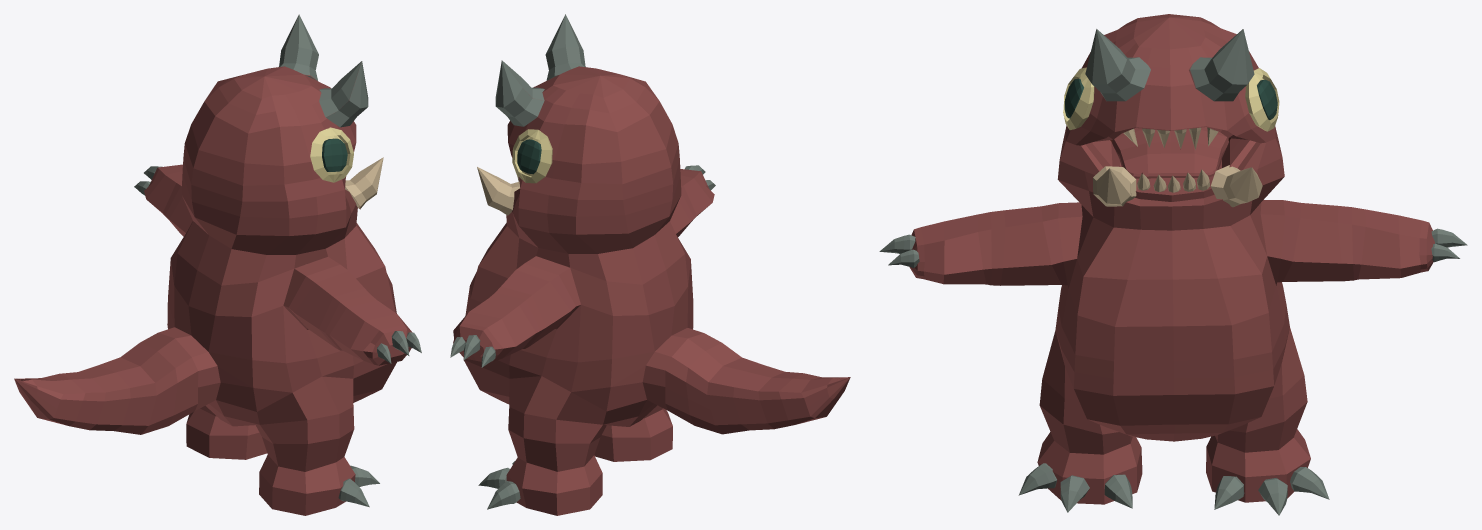
The model's file is 2nd Floor Monster 1.fbx.
3 views of the same model, side by side, from view 1: azimuth 30°, elevation 25°; view 2: azimuth 150°, elevation 25°; view 3: azimuth 270°, elevation 25° (orthographic). The views are drawn at different scales.
Parts seen in each view (by area): view 1: Cube, Cone.004, Icosphere.002, Cone, Cone.002, Cone.005, Cone.006; view 2: Cube, Cone, Icosphere, Cone.004, Cone.001, Cone.006, Cone.005; view 3: Cube, Cone.006, Cone, Cone.004, Cone.003, Cone.001, Icosphere, Cone.005, Cone.002, Icosphere.002.
Part boxes in pixels (x1,y1,x2,y2): Cube: [14, 66, 412, 515]; Cone.004: [319, 61, 368, 127]; Icosphere.002: [310, 127, 353, 182]; Cone: [279, 14, 318, 80]; Cone.002: [345, 157, 383, 209]; Cone.005: [134, 166, 421, 363]; Cone.006: [338, 465, 379, 507]; Cube: [453, 66, 850, 515]; Cone: [495, 60, 544, 126]; Icosphere: [512, 129, 552, 183]; Cone.004: [545, 14, 585, 80]; Cone.001: [477, 167, 519, 215]; Cone.006: [478, 461, 520, 509]; Cone.005: [450, 165, 715, 367]; Cube: [909, 14, 1434, 504]; Cone.006: [1018, 463, 1329, 515]; Cone: [1189, 29, 1254, 101]; Cone.004: [1085, 29, 1150, 101]; Cone.003: [1123, 127, 1218, 192]; Cone.001: [1210, 165, 1262, 207]; Icosphere: [1245, 68, 1279, 131]; Cone.005: [879, 228, 1467, 267]; Cone.002: [1093, 166, 1136, 206]; Icosphere.002: [1063, 67, 1094, 130].
Bounding box in the file's own units: 4.03 × 4.54 × 4.97.
